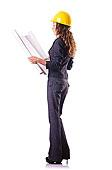helmet: (52, 11, 73, 28)
